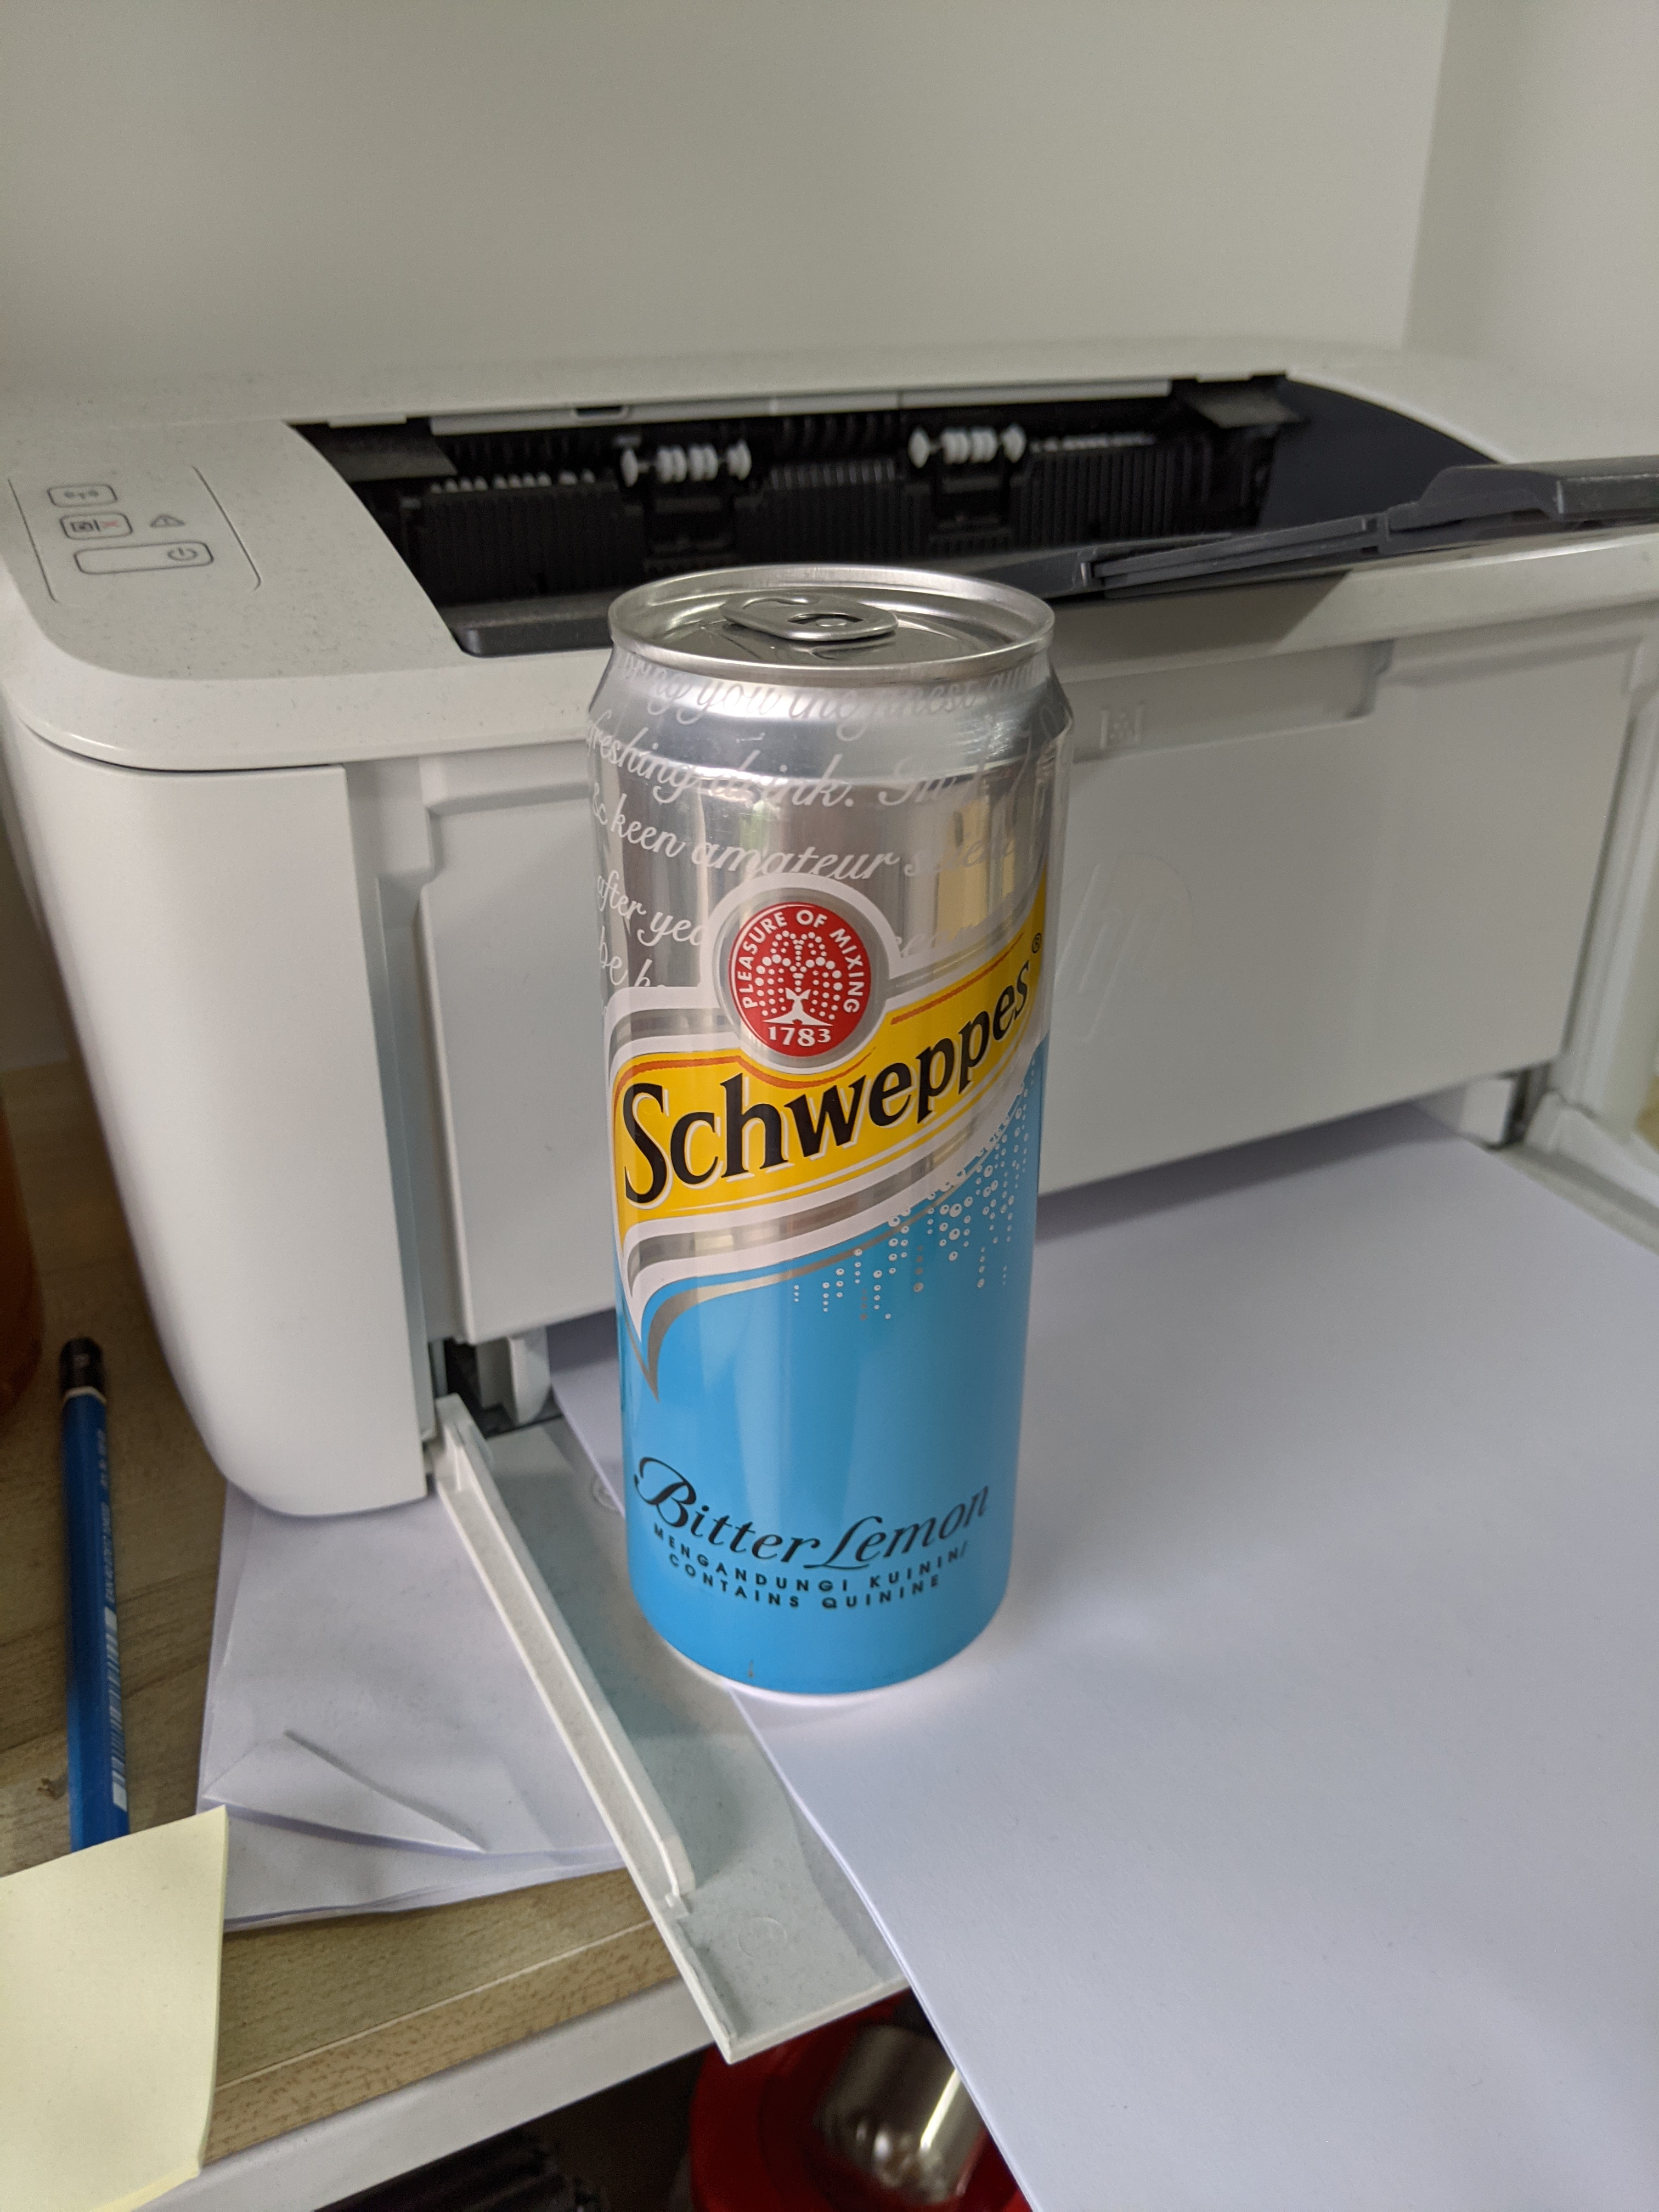schweppes drink can bitter lemon: (558, 529, 1108, 1743)
